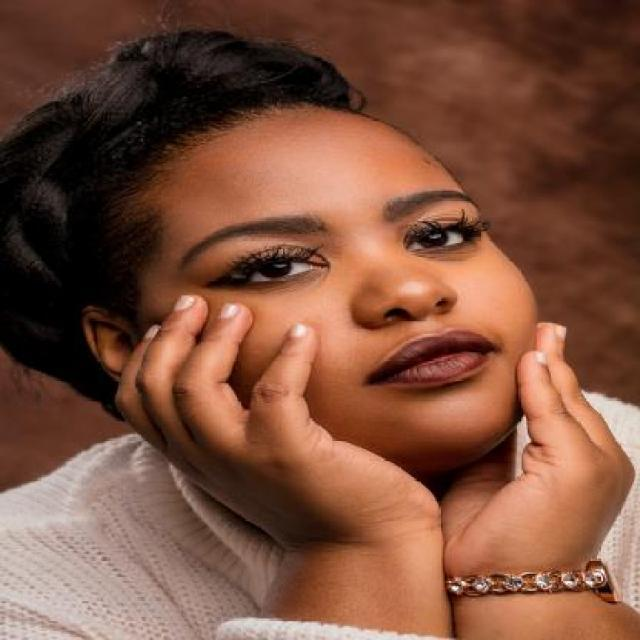closed-mouth: (376, 326, 494, 390)
